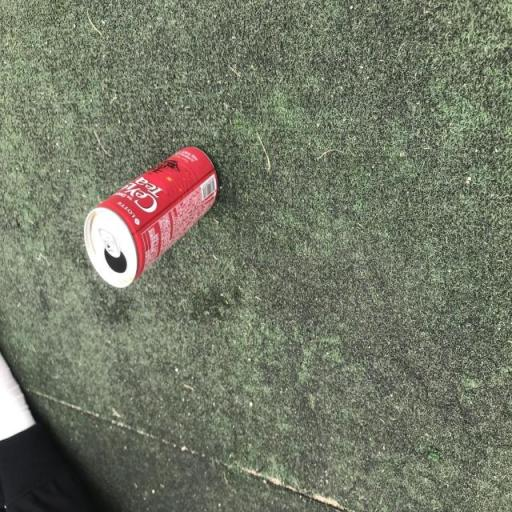metal: (78, 134, 231, 303)
